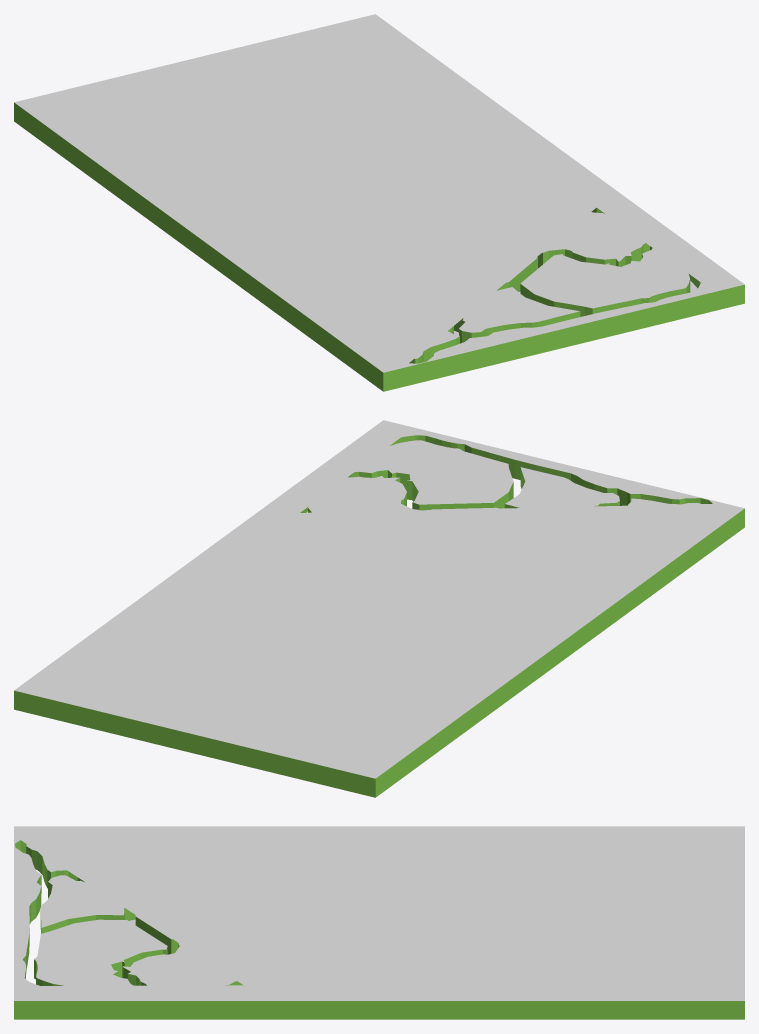
Rendered from Nivel6.fbx.
3 views of the same model, one above another, from view 1: azimuth 30°, elevation 25°; view 2: azimuth 150°, elevation 25°; view 3: azimuth 270°, elevation 25° (orthographic).
Visible parts, largest first — view 1: Plane, Plane.002, Plane.019, Plane.021, Plane.016, Plane.010, Plane.007, Plane.004, Plane.005, Plane.020, Plane.001, Plane.013 (+6 smaller); view 2: Plane, Plane.019, Plane.002, Plane.006, Plane.021, Plane.016, Plane.013, Plane.010, Plane.014, Plane.004, Plane.001, Plane.007 (+3 smaller); view 3: Plane, Plane.019, Plane.002, Plane.021, Plane.016, Plane.006, Plane.014, Plane.010, Plane.004, Plane.005, Plane.003, Plane.018 (+1 smaller).
Part boxes in pixels (x1=…): Plane: x1=14, y1=14, x2=744, y2=391; Plane.002: x1=74, y1=47, x2=412, y2=170; Plane.019: x1=520, y1=247, x2=690, y2=316; Plane.021: x1=488, y1=179, x2=649, y2=268; Plane.016: x1=435, y1=287, x2=580, y2=343; Plane.010: x1=367, y1=196, x2=480, y2=265; Plane.007: x1=234, y1=143, x2=438, y2=228; Plane.004: x1=342, y1=296, x2=459, y2=363; Plane.005: x1=270, y1=238, x2=387, y2=295; Plane.020: x1=407, y1=150, x2=533, y2=212; Plane.001: x1=151, y1=166, x2=255, y2=236; Plane.013: x1=344, y1=79, x2=501, y2=150; Plane: x1=14, y1=420, x2=744, y2=797; Plane.019: x1=348, y1=440, x2=513, y2=510; Plane.002: x1=79, y1=652, x2=445, y2=753; Plane.006: x1=239, y1=638, x2=414, y2=714; Plane.021: x1=268, y1=476, x2=419, y2=554; Plane.016: x1=504, y1=467, x2=619, y2=525; Plane.013: x1=116, y1=579, x2=310, y2=639; Plane.010: x1=356, y1=533, x2=501, y2=593; Plane.014: x1=107, y1=627, x2=244, y2=698; Plane.004: x1=585, y1=498, x2=700, y2=555; Plane.001: x1=406, y1=627, x2=549, y2=686; Plane.007: x1=257, y1=596, x2=503, y2=654; Plane: x1=14, y1=826, x2=744, y2=1019; Plane.019: x1=34, y1=919, x2=167, y2=987; Plane.002: x1=533, y1=835, x2=717, y2=989; Plane.021: x1=122, y1=943, x2=321, y2=987; Plane.016: x1=40, y1=875, x2=145, y2=933; Plane.006: x1=498, y1=852, x2=657, y2=933; Plane.014: x1=513, y1=920, x2=662, y2=983; Plane.010: x1=198, y1=887, x2=350, y2=932; Plane.004: x1=26, y1=839, x2=175, y2=888; Plane.005: x1=179, y1=843, x2=324, y2=873; Plane.003: x1=288, y1=839, x2=362, y2=894; Plane.018: x1=135, y1=891, x2=265, y2=954.
Size of the model in its own units: 179 by 27.58 by 316.
